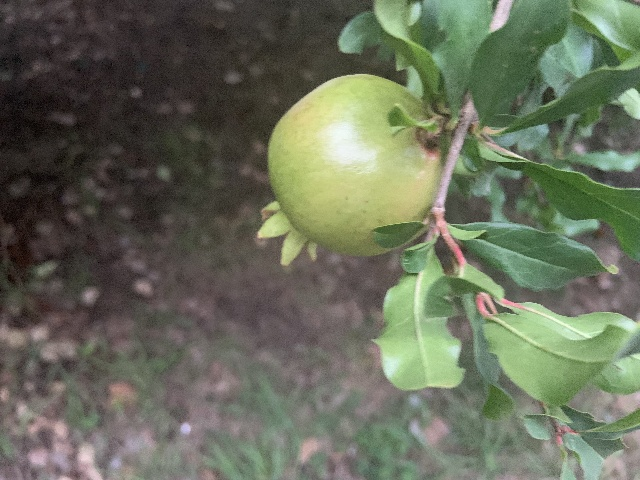mid-growth: (256, 73, 438, 266)
